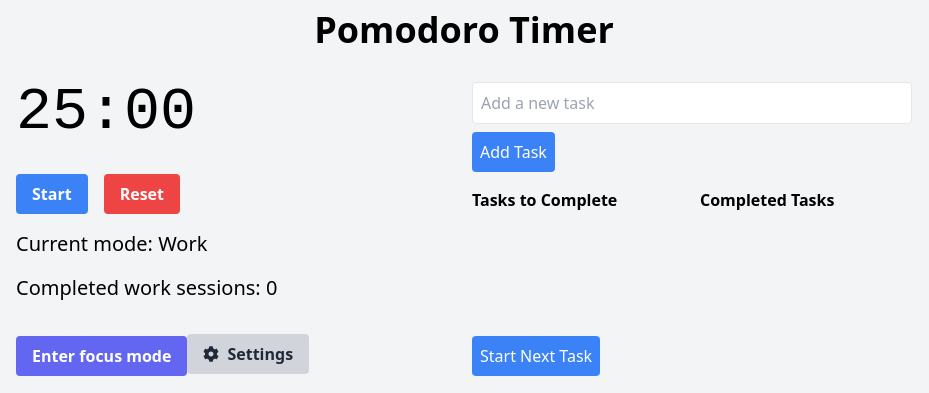
Test case: App – timer logic › starts countdown when Start is clicked
The width and height of the screenshot is (929, 393).
Click the button "Start".
click(52, 194)  # box [16,174,88,214]
Wait 2000 ms
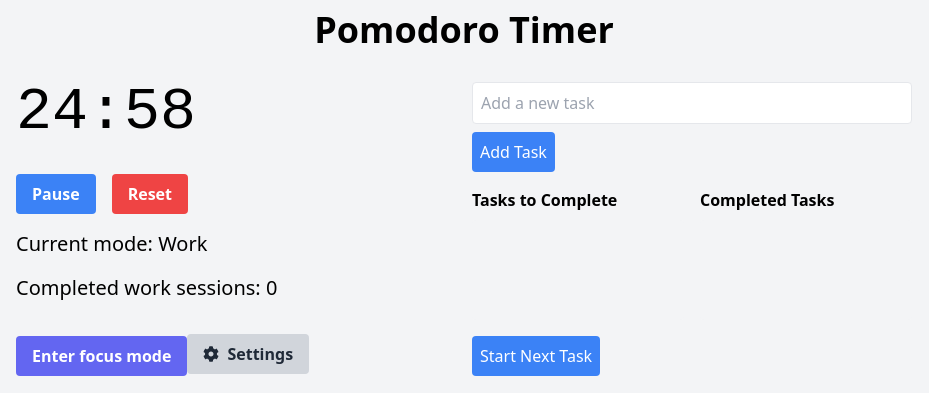
Expected: the button "Pause" is shown, [16,174,96,214]
Expected: the text "24:58" is shown, [16,78,196,146]
